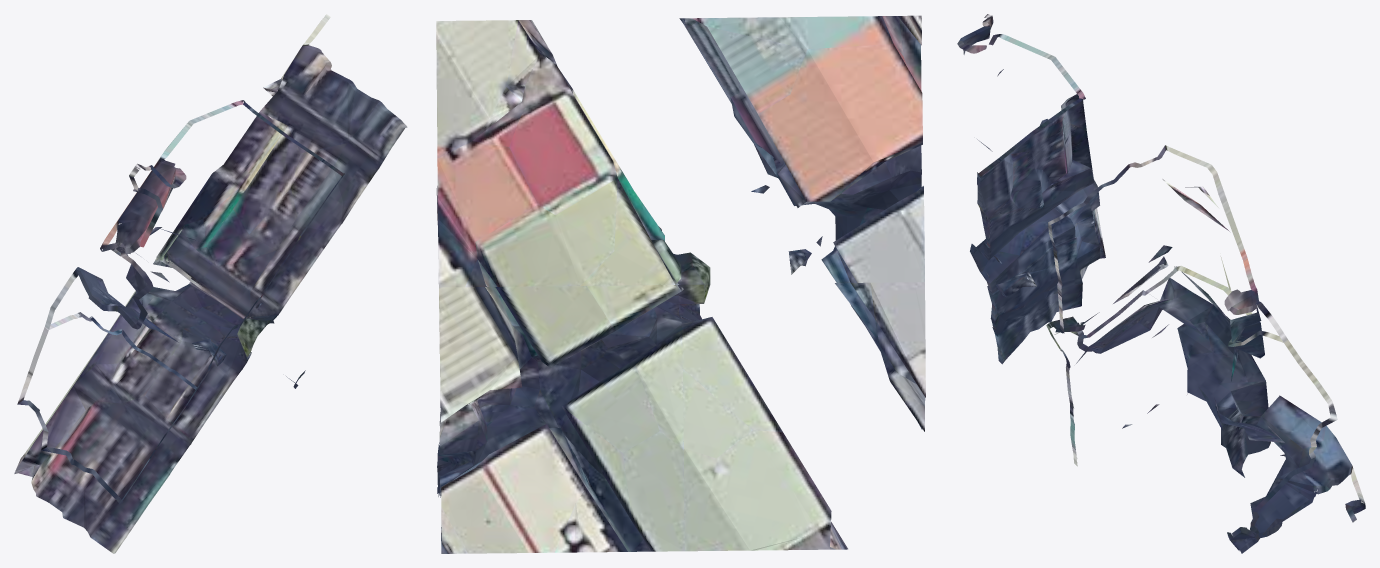
3 renders of one model, left to right at view 1: azimuth 30°, elevation 25°; view 2: azimuth 150°, elevation 25°; view 3: azimuth 270°, elevation 25°, orthographic. The views are drawn at different scales.
Size of the model in its own units: 35.7 by 39.91 by 33.44.
Materials: 2 (2 with a texture image).
